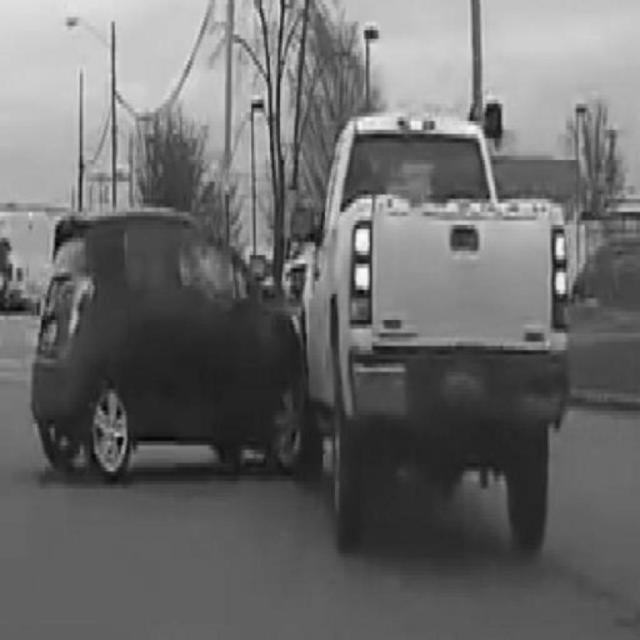accident: (35, 115, 563, 559)
